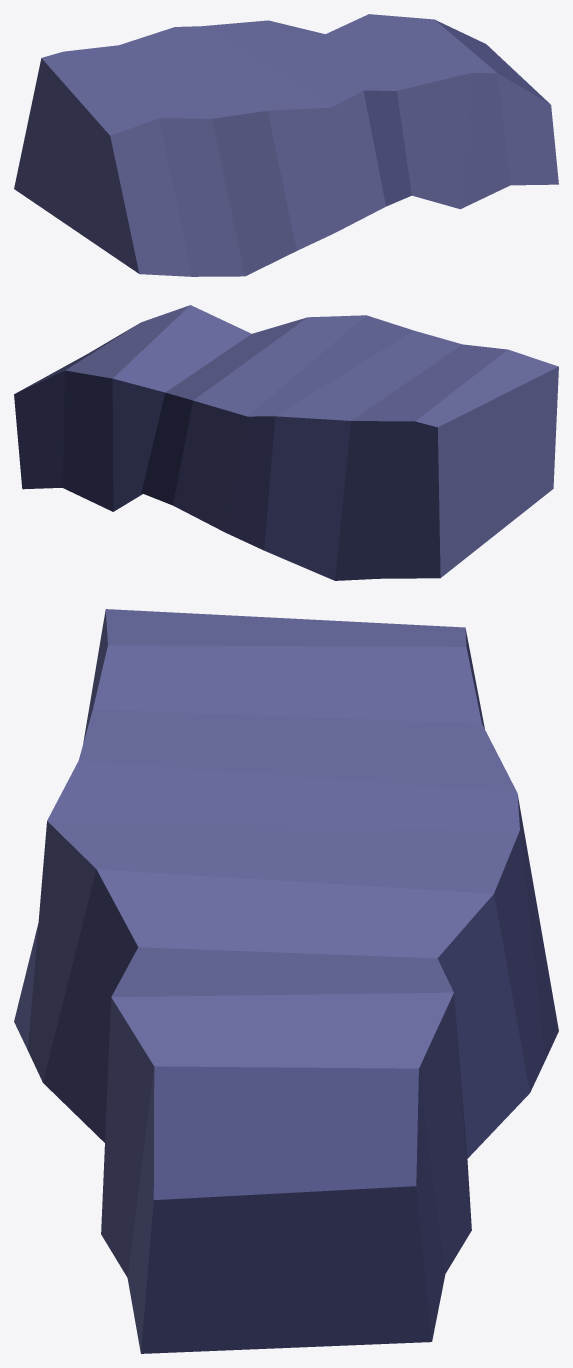
The model's file is ledge-2.glb.
3 renders of one model, top to bottom at view 1: azimuth 30°, elevation 25°; view 2: azimuth 150°, elevation 25°; view 3: azimuth 270°, elevation 25°, orthographic. The views are drawn at different scales.
Visible parts, largest first — view 1: ledge-2; view 2: ledge-2; view 3: ledge-2.
Part boxes in pixels (<box>): ledge-2: <box>14,14,558,276</box>; ledge-2: <box>14,305,558,580</box>; ledge-2: <box>14,609,558,1353</box>.
Bounding box in the file's own units: 4.93 × 1.77 × 2.67.
